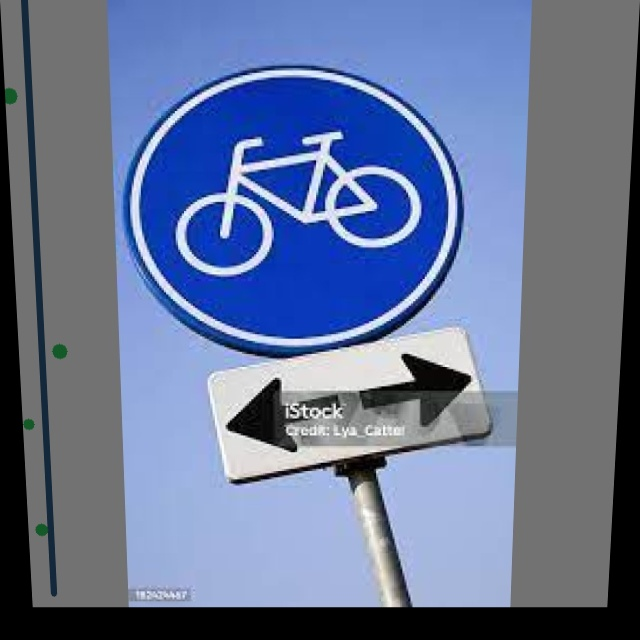Compulsory_Cycle_Track: (126, 65, 472, 321)
